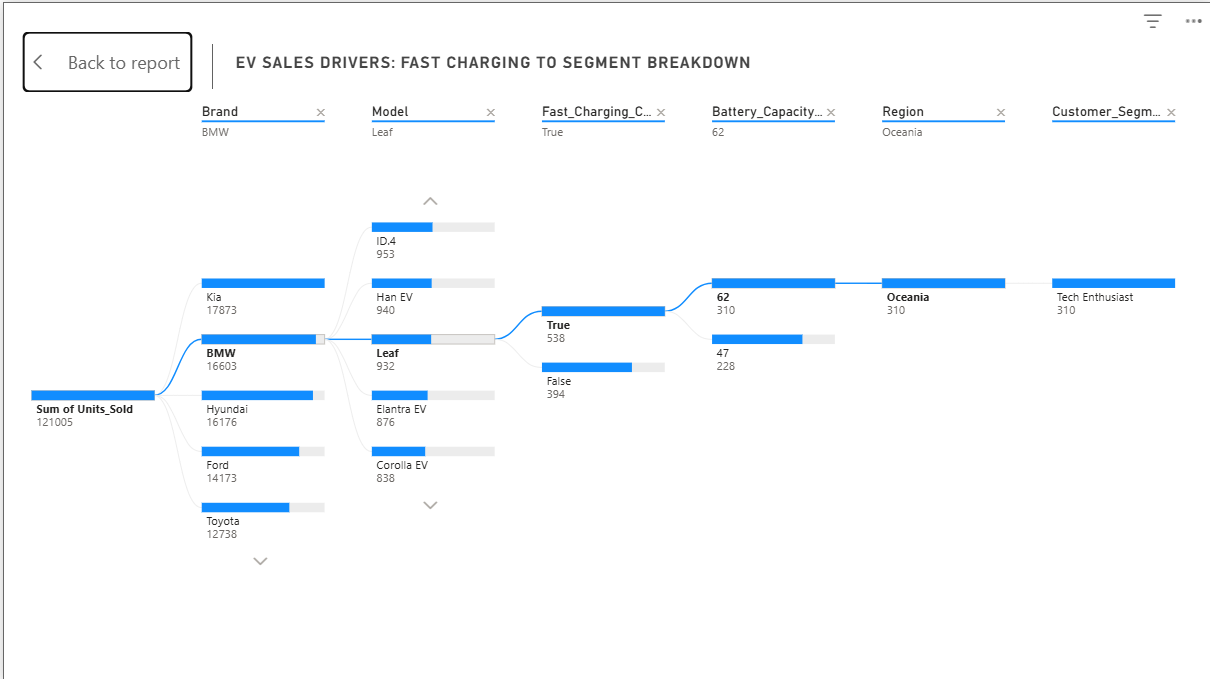

The page's visual inventory and layout, read from the dashboard file:
{"tool":"powerbi","page":{"name":"3","canvas":[1280,720],"ordinal":2},"visuals":[{"type":"decompositionTreeVisual","title":"EV SALES DRIVERS: FAST CHARGING TO SEGMENT BREAKDOWN","fields":{"Analyze":["Sum(train.Units_Sold)"],"ExplainBy":["train.Brand","train.Model","train.Fast_Charging_Cleaned","train.Battery_Capacity_kWh","train.Region","train.Customer_Segment"]},"box":[9.9,0,1270.5,495.3],"z":0},{"type":"pivotTable","title":"WHICH BRANDS PRIORITIZE FAST CHARGING? ","fields":{"Rows":["train.Brand"],"Values":["train.Fast Charging %"]},"box":[4.8,425.8,1271,293.5],"z":1}]}

Visuals, with their boxes on the page's 1280x720 design canvas (x1, y1, x2, y2). These are canvas units, not pixel positions in the 1210x679 screenshot, which may show the page scaled, cropped or inside an application window:
"EV SALES DRIVERS: FAST CHARGING TO SEGMENT BREAKDOWN" decompositionTreeVisual: x1=10, y1=0, x2=1280, y2=495
"WHICH BRANDS PRIORITIZE FAST CHARGING? " pivotTable: x1=5, y1=426, x2=1276, y2=719
